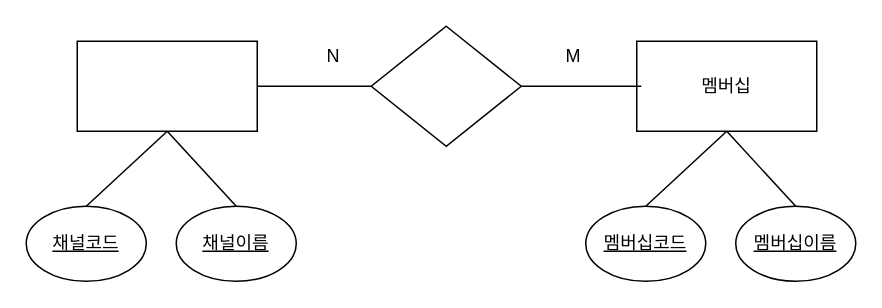
This 882x308 diagram has some shape labels left out. The shapes that lost their labels are listed below. From the top down, each one's centre as x and y in pixels, then its label:
At pixel 166 85: "채널".
At pixel 445 85: "매핑".
